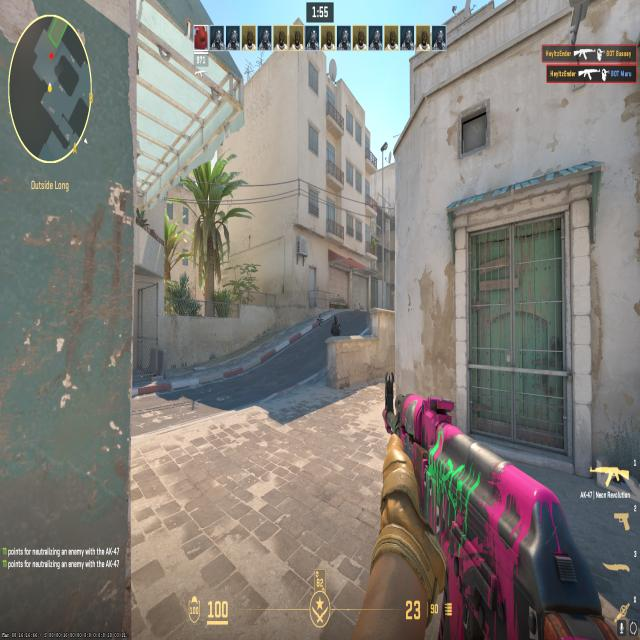ct: (329, 312, 341, 337)
